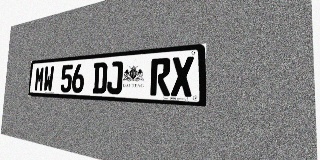5: (60, 64, 73, 93)
6: (71, 64, 85, 93)
D: (92, 62, 108, 94)
J: (107, 61, 123, 94)
M: (34, 66, 45, 92)
R: (150, 57, 171, 96)
W: (43, 66, 54, 92)
X: (171, 56, 194, 97)
